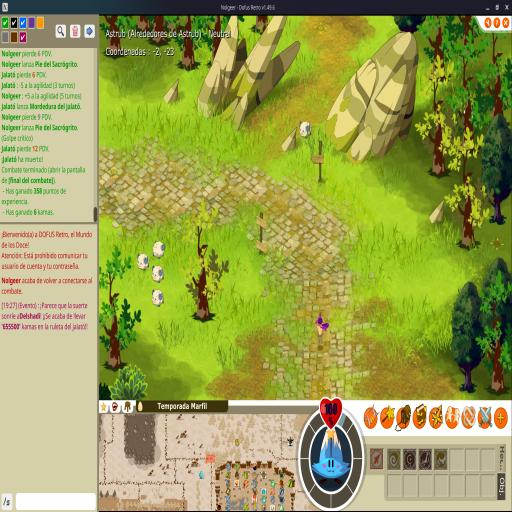Enemigos: (152, 240, 166, 260), (137, 252, 150, 272), (299, 120, 312, 139), (152, 288, 164, 308), (152, 265, 164, 283)
Personaje: (314, 312, 330, 348)
